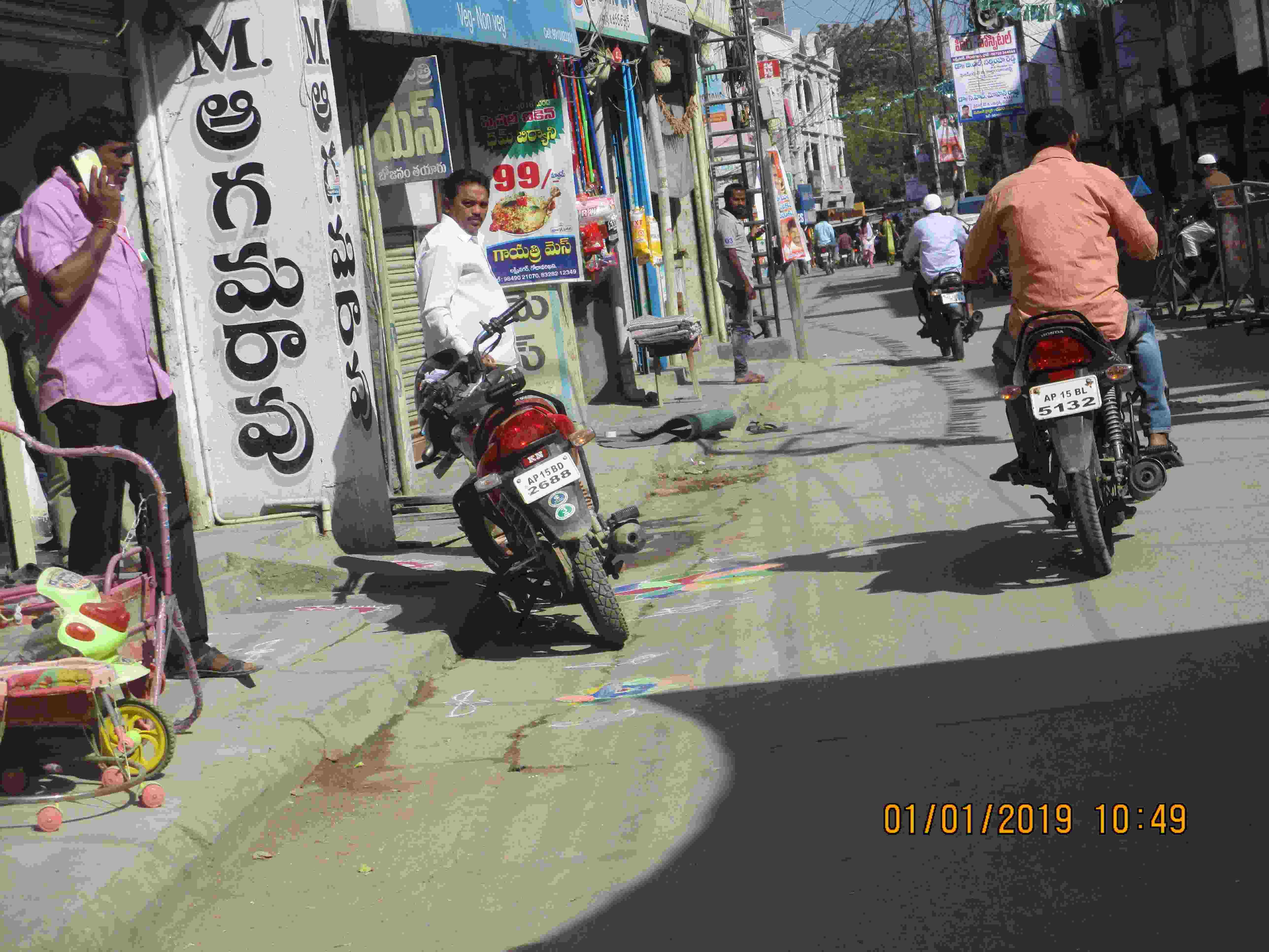plate: (498, 445, 586, 505), (1021, 369, 1112, 418), (931, 285, 976, 306)
